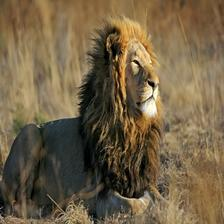Lion: (0, 17, 164, 224)
